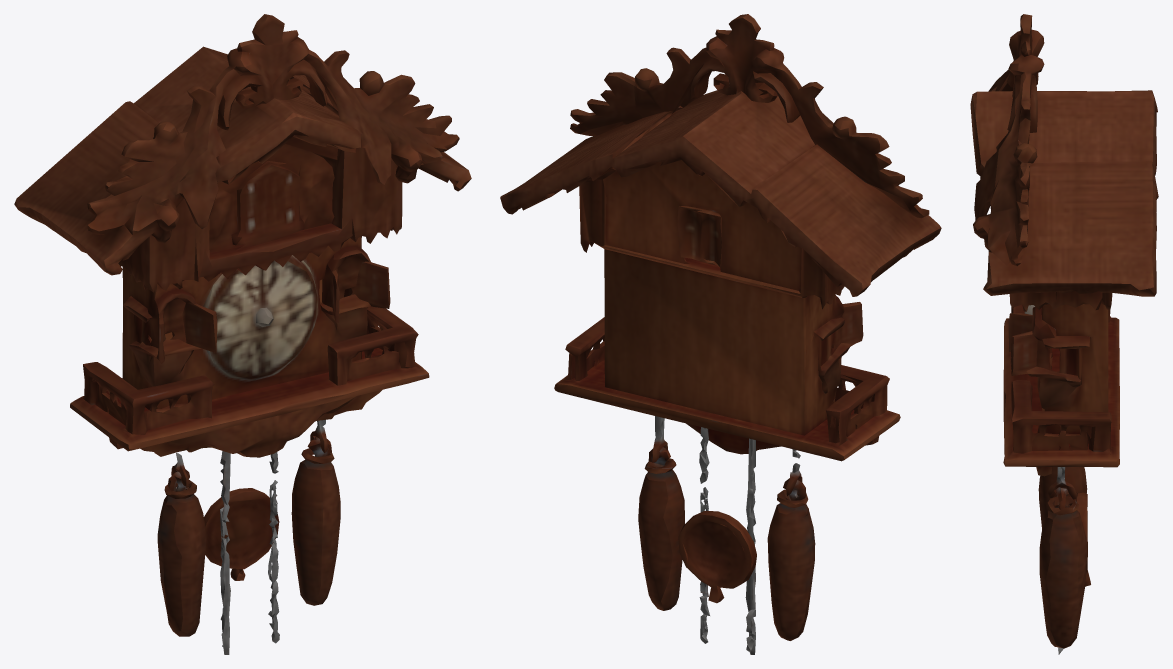
The model's file is cuckoo.glb.
The picture shows the model from 3 angles, left to right: view 1: azimuth 30°, elevation 25°; view 2: azimuth 150°, elevation 25°; view 3: azimuth 270°, elevation 25°; orthographic projection. The views are drawn at different scales.
Parts seen in each view (by area): view 1: world; view 2: world; view 3: world.
Part boxes in pixels (x1,y1,x2,y2): world: (14, 14, 471, 654); world: (500, 14, 941, 654); world: (970, 14, 1158, 654).
Bounding box in the file's own units: 0.4615 × 0.75 × 0.2034.
1 material, 1 textured.
